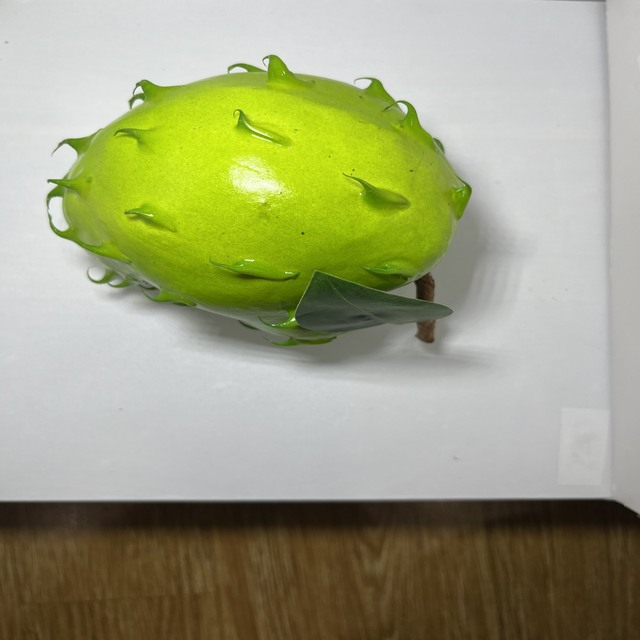Man cau: (37, 49, 479, 356)
